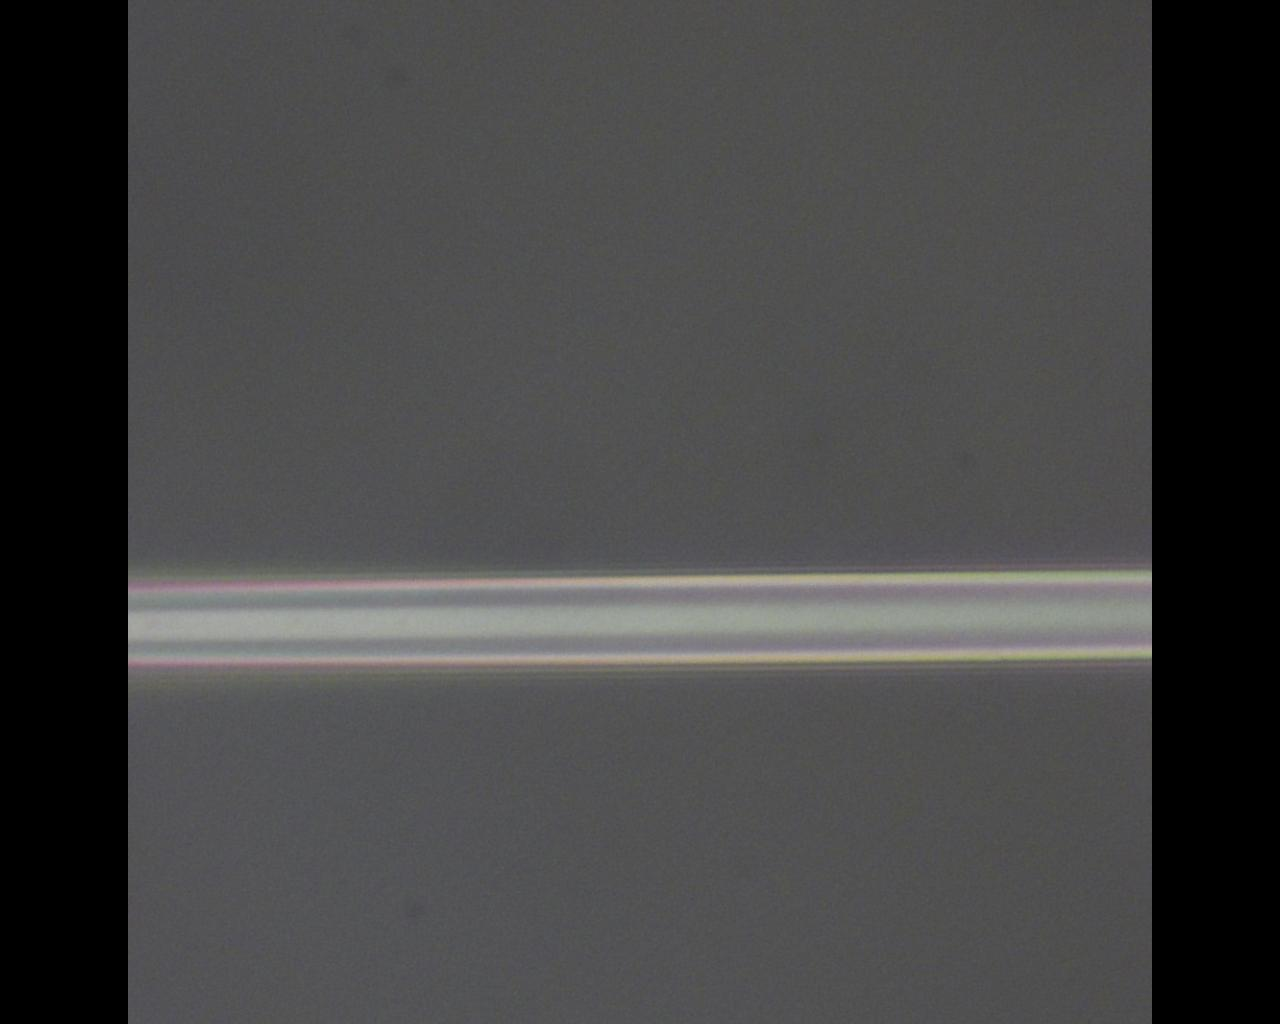fiber: (10, 0, 228, 296), (844, 502, 1280, 637)
